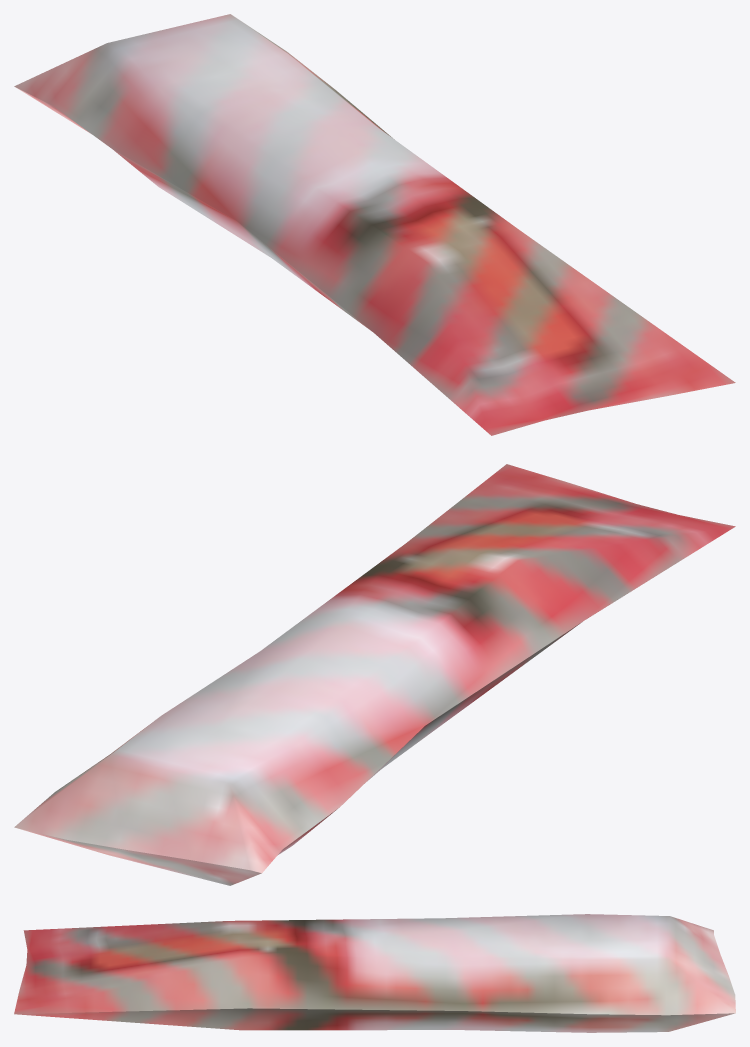
The model's file is icecandy01a.fbx.
The picture shows the model from 3 angles, top to bottom: view 1: azimuth 30°, elevation 25°; view 2: azimuth 150°, elevation 25°; view 3: azimuth 270°, elevation 25°; orthographic projection. The views are drawn at different scales.
Parts seen in each view (by area): view 1: icecandy01a; view 2: icecandy01a; view 3: icecandy01a.
Part boxes in pixels (x1=…): icecandy01a: x1=14, y1=14, x2=735, y2=435; icecandy01a: x1=14, y1=464, x2=735, y2=885; icecandy01a: x1=14, y1=914, x2=735, y2=1032.
Size of the model in its own units: 6.13 by 3.02 by 22.05.
